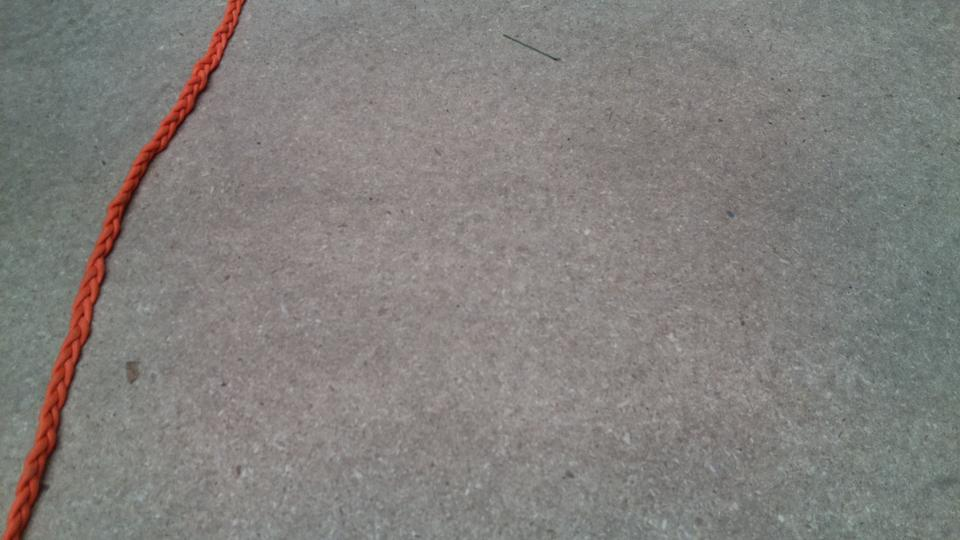rope: (1, 1, 251, 540)
